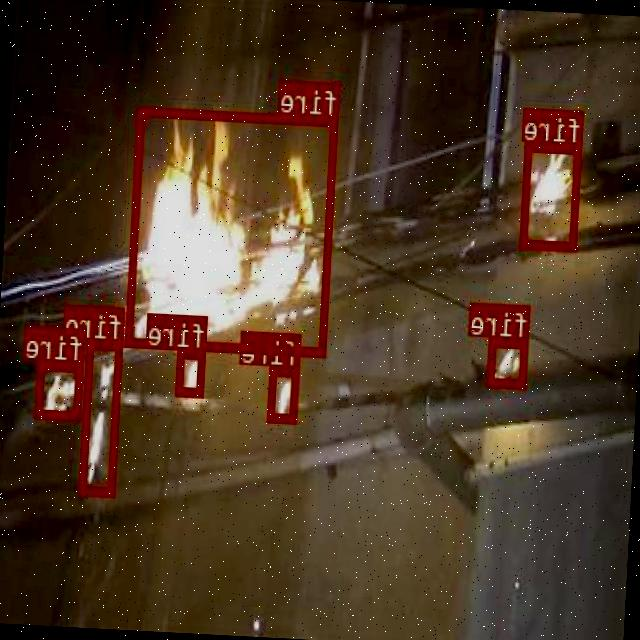fire: (126, 106, 340, 356), (81, 340, 124, 495), (522, 141, 583, 250), (36, 360, 84, 420), (488, 337, 530, 388), (268, 365, 301, 420), (178, 348, 207, 396)
